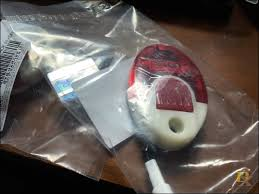bell: (127, 42, 212, 154)
